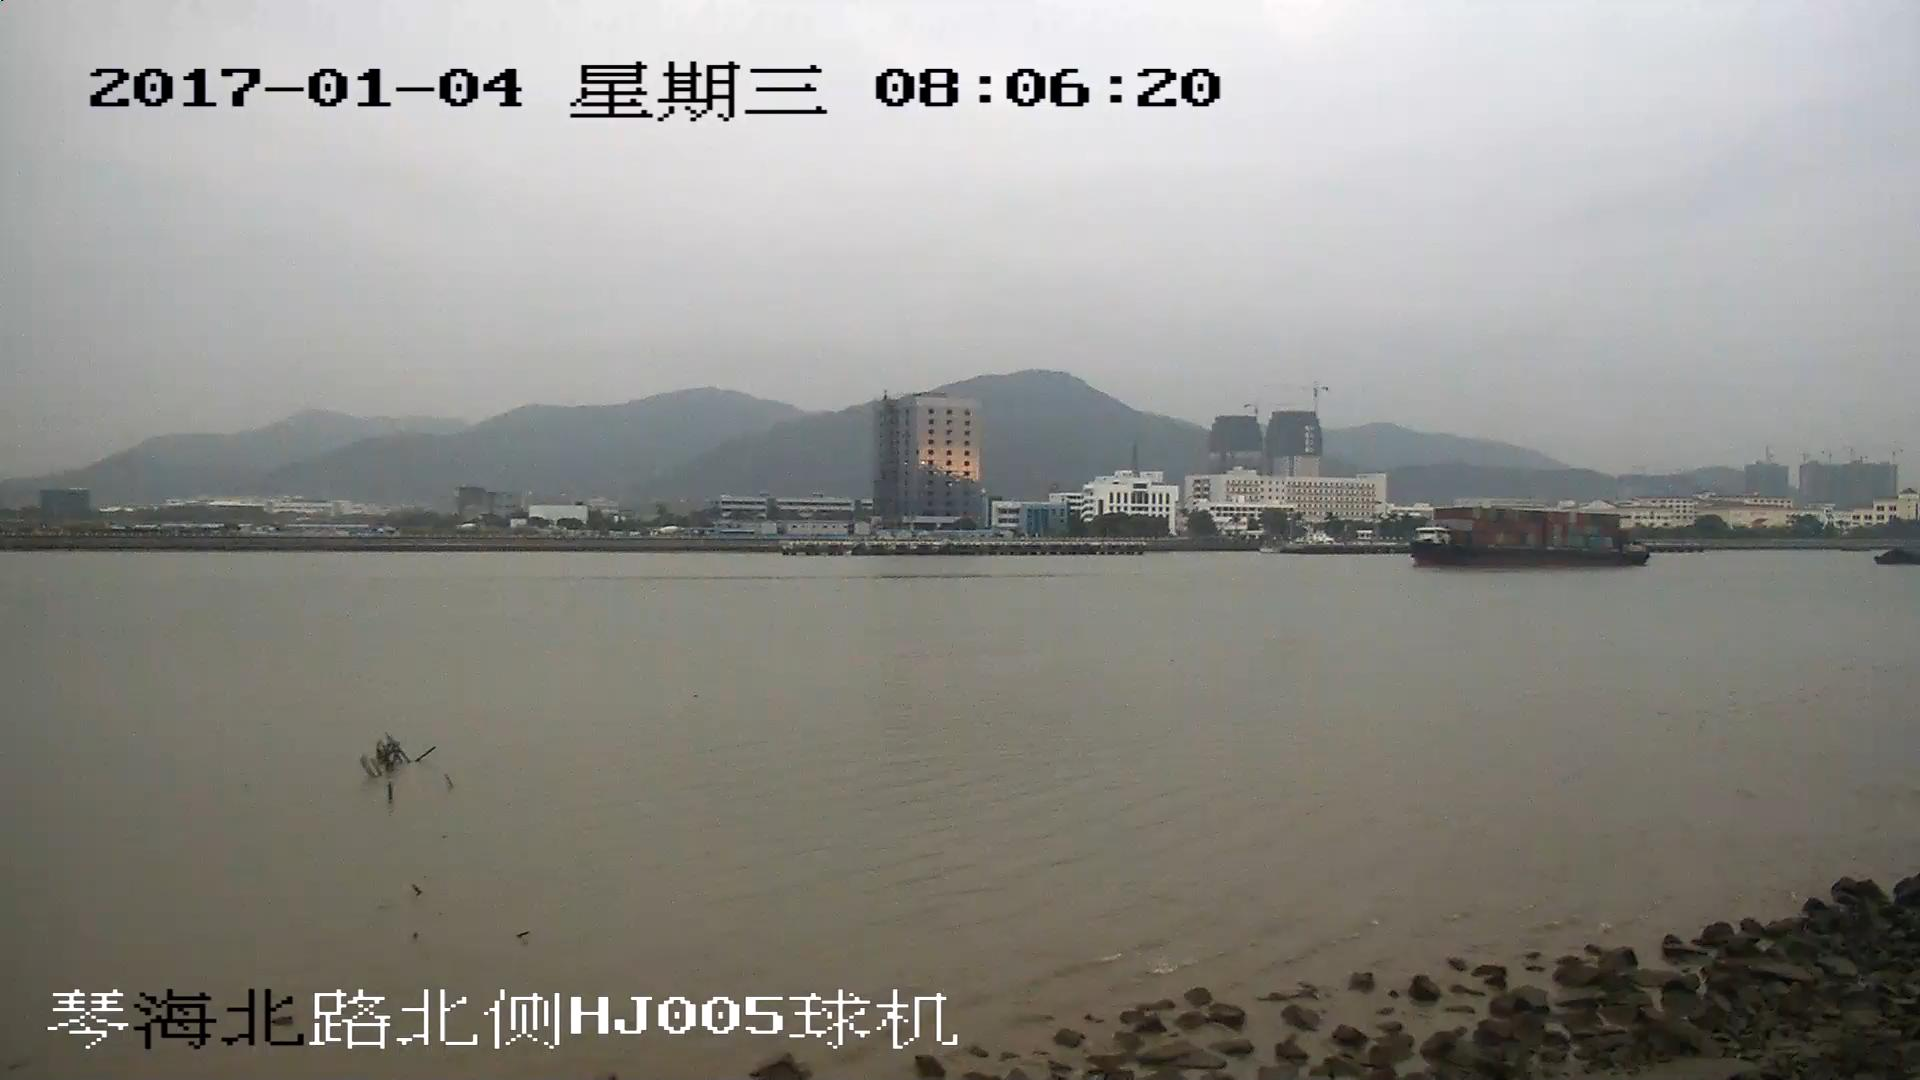container ship: (1410, 508, 1645, 570)
